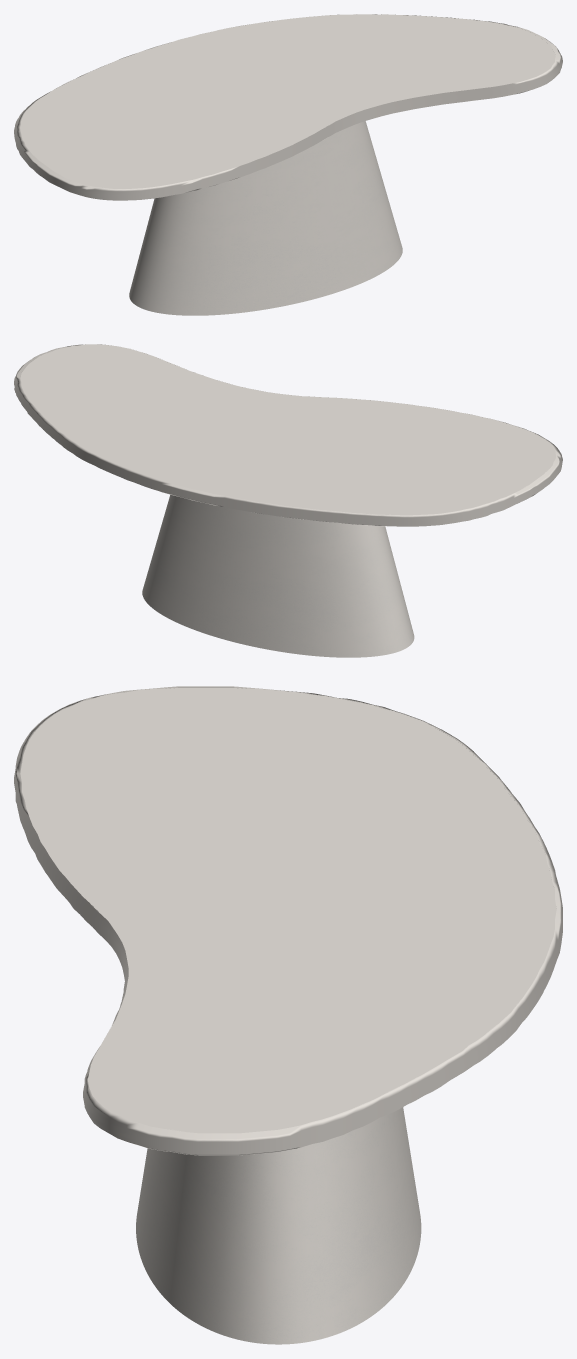
File: pearlwhite_leaf1_round_eqone.glb
3 renders of one model, top to bottom at view 1: azimuth 30°, elevation 25°; view 2: azimuth 150°, elevation 25°; view 3: azimuth 270°, elevation 25°, orthographic. The views are drawn at different scales.
Visible parts, largest first — view 1: round_leaf1, eqone; view 2: round_leaf1, eqone; view 3: round_leaf1, eqone.
Part boxes in pixels (x1=…): round_leaf1: x1=14, y1=14, x2=562, y2=200; eqone: x1=129, y1=121, x2=402, y2=315; round_leaf1: x1=14, y1=344, x2=562, y2=526; eqone: x1=142, y1=494, x2=414, y2=657; round_leaf1: x1=14, y1=686, x2=562, y2=1155; eqone: x1=136, y1=1107, x2=421, y2=1344.
Bounding box in the file's own units: 7.49 × 2.5 × 3.8.
Materials: 1 (1 with a texture image).
